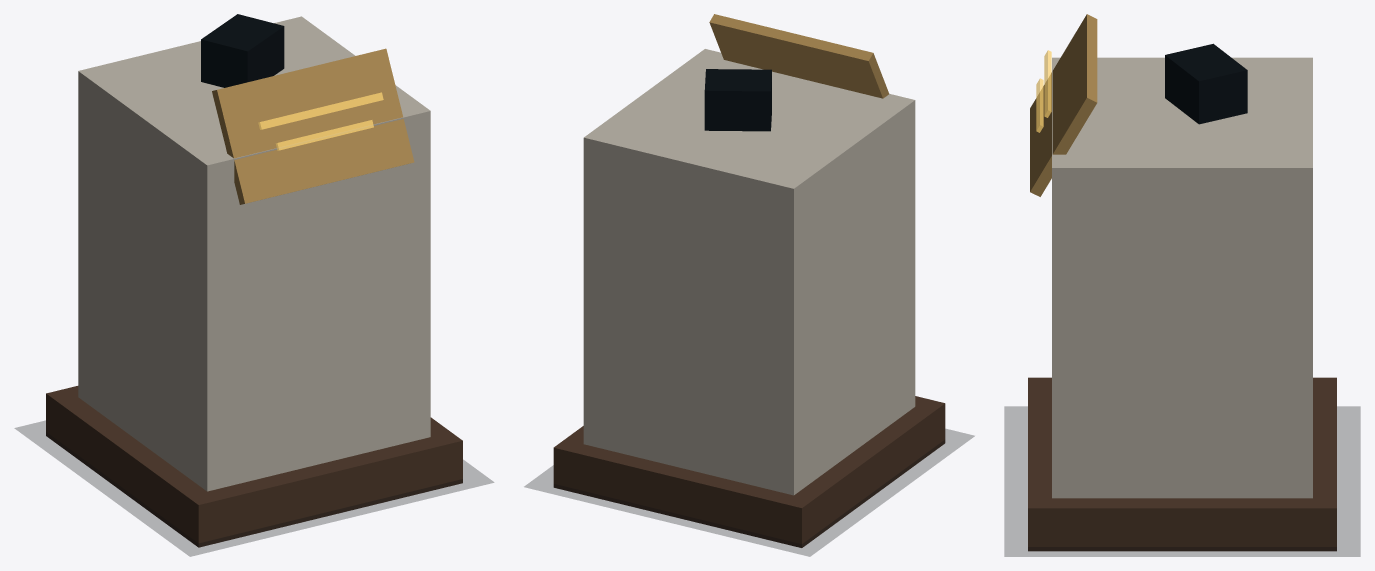
File: hp_room_rm_museum_archive_plinth.glb
The picture shows the model from 3 angles, left to right: view 1: azimuth 30°, elevation 25°; view 2: azimuth 150°, elevation 25°; view 3: azimuth 270°, elevation 25°; orthographic projection. The views are drawn at different scales.
Visible parts, largest first — view 1: plinth_block, plinth_foot, label_plate, contact_shadow, display_item, label_lines_a, label_lines_b; view 2: plinth_block, plinth_foot, label_plate, contact_shadow, display_item; view 3: plinth_block, plinth_foot, contact_shadow, label_plate, display_item, label_lines_a.
Part boxes in pixels (left/top/right/bottom): plinth_block: left=78, top=16, right=430, bottom=491; plinth_foot: left=46, top=386, right=462, bottom=547; label_plate: left=212, top=48, right=414, bottom=204; contact_shadow: left=15, top=420, right=493, bottom=556; display_item: left=201, top=14, right=284, bottom=87; label_lines_a: left=258, top=92, right=383, bottom=129; label_lines_b: left=275, top=120, right=373, bottom=150; plinth_block: left=583, top=49, right=915, bottom=495; plinth_foot: left=553, top=396, right=945, bottom=547; label_plate: left=709, top=14, right=889, bottom=98; contact_shadow: left=524, top=429, right=974, bottom=556; display_item: left=704, top=69, right=771, bottom=131; plinth_block: left=1052, top=57, right=1312, bottom=498; plinth_foot: left=1028, top=377, right=1336, bottom=551; contact_shadow: left=1004, top=406, right=1360, bottom=556; label_plate: left=1030, top=14, right=1097, bottom=196; display_item: left=1165, top=43, right=1247, bottom=124; label_lines_a: left=1044, top=50, right=1051, bottom=117.
Bounding box in the file's own units: 0.9 × 1.2 × 0.9.
